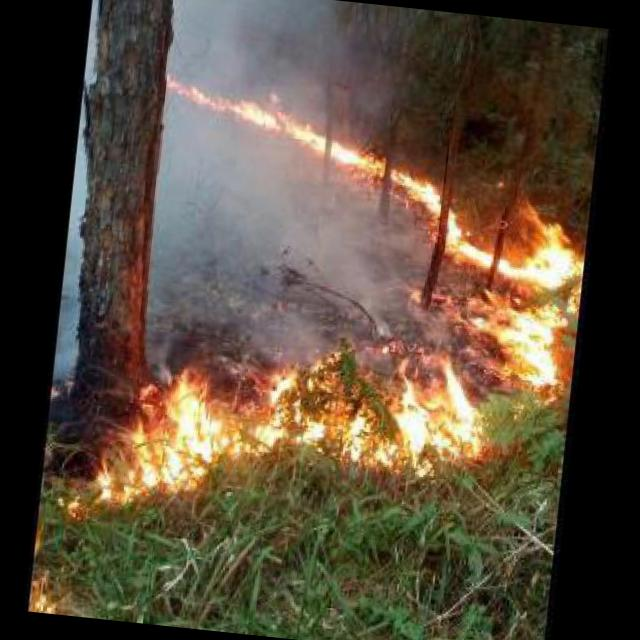fire: (152, 74, 594, 290), (80, 353, 496, 544), (434, 286, 570, 396)
